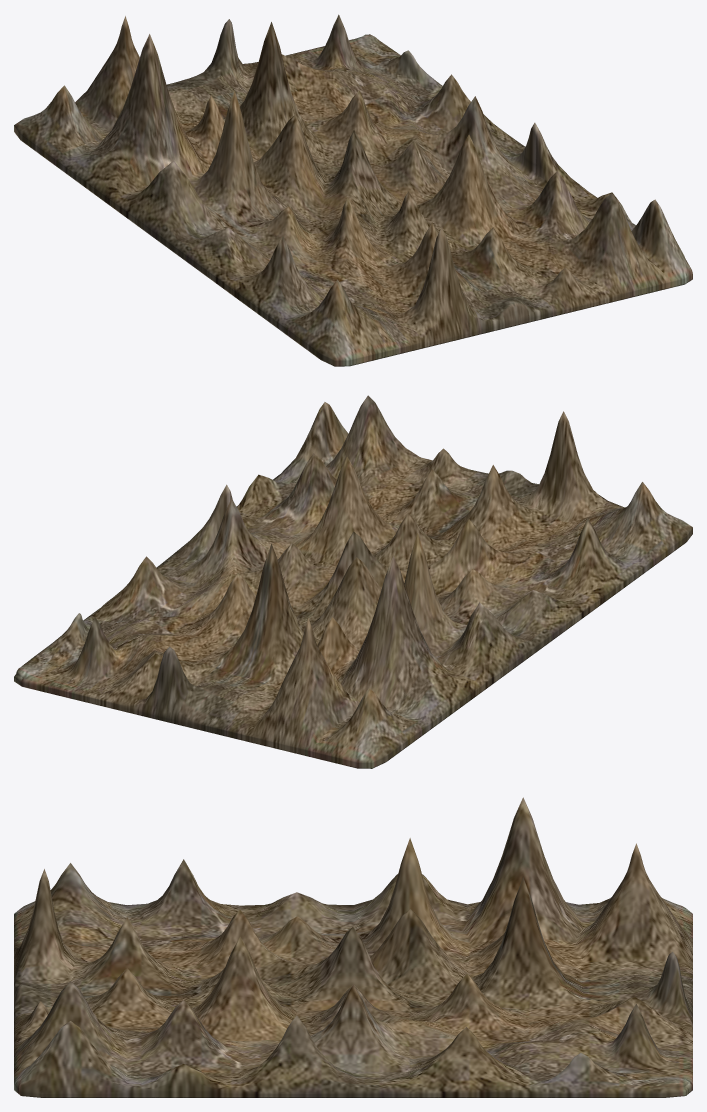
File: Stalagmite2_ver2.FBX
3 renders of one model, top to bottom at view 1: azimuth 30°, elevation 25°; view 2: azimuth 150°, elevation 25°; view 3: azimuth 270°, elevation 25°, orthographic. The views are drawn at different scales.
Visible parts, largest first — view 1: Stalagmite_02; view 2: Stalagmite_02; view 3: Stalagmite_02.
Part boxes in pixels (<box>): Stalagmite_02: <box>14,14,692,366</box>; Stalagmite_02: <box>14,395,692,768</box>; Stalagmite_02: <box>14,797,692,1097</box>.
Bounding box in the file's own units: 58.07 × 21.68 × 90.12.
Materials: 1 (1 with a texture image).
